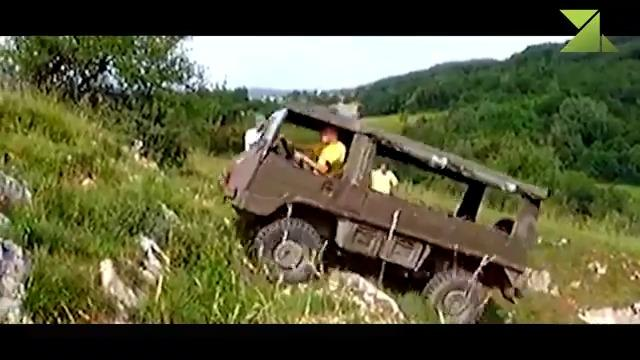MIL_HMMWV: (223, 104, 547, 325), (288, 123, 348, 177)
